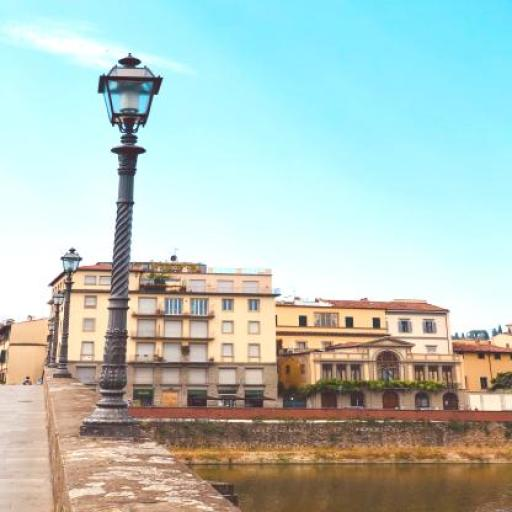street light: (86, 53, 164, 433), (53, 248, 82, 378), (48, 292, 65, 368), (47, 321, 55, 366)
